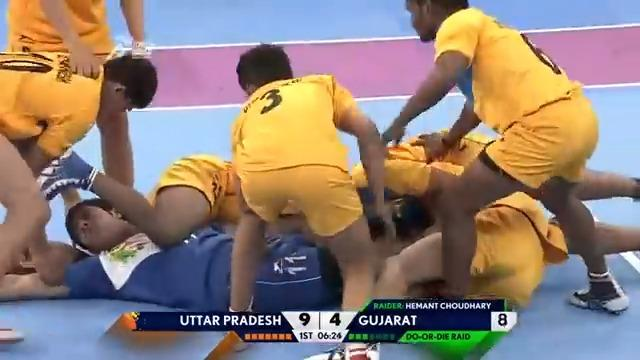Player: (378, 0, 632, 315), (228, 42, 392, 311), (0, 0, 157, 193)
Raider: (59, 196, 344, 313)
